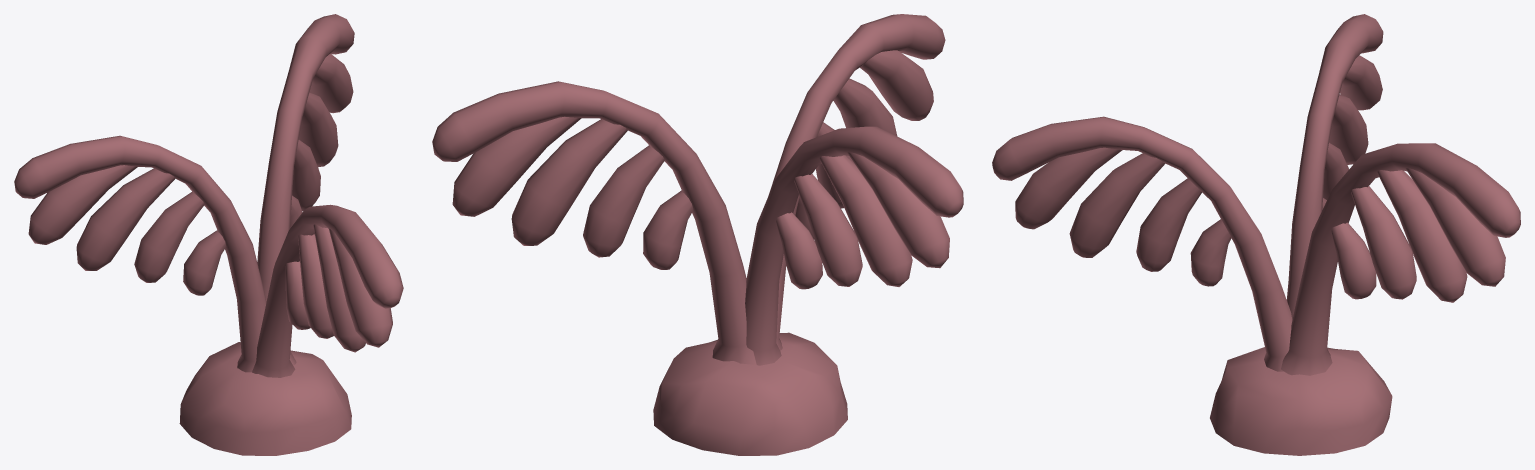
Rendered from rockyPlant_stage3.fbx.
3 views of the same model, side by side, from view 1: azimuth 30°, elevation 25°; view 2: azimuth 150°, elevation 25°; view 3: azimuth 270°, elevation 25° (orthographic). The views are drawn at different scales.
Visible parts, largest first — view 1: rockyStem1 (×3), rockyFruit, rockyLeaf3 (×3), rockyLeaf2 (×3), rockyLeaf1 (×3), rockyLeaf4 (×2); view 2: rockyStem1 (×3), rockyFruit, rockyLeaf3 (×3), rockyLeaf2 (×3), rockyLeaf1 (×3), rockyLeaf4 (×2); view 3: rockyStem1 (×3), rockyFruit, rockyLeaf3 (×3), rockyLeaf2 (×3), rockyLeaf1 (×3), rockyLeaf4 (×2).
Boxes of the visible parts, box(x1,y1,x2,y2) form: rockyStem1 (×3): box(14, 14, 403, 377); rockyFruit: box(179, 342, 351, 455); rockyLeaf3 (×3): box(76, 92, 365, 352); rockyLeaf2 (×3): box(28, 53, 392, 347); rockyLeaf1 (×3): box(134, 140, 333, 338); rockyLeaf4 (×2): box(183, 230, 310, 329); rockyStem1 (×3): box(432, 14, 963, 365); rockyFruit: box(653, 332, 847, 455); rockyLeaf3 (×3): box(511, 78, 912, 286); rockyLeaf2 (×3): box(452, 50, 949, 268); rockyLeaf1 (×3): box(583, 122, 862, 286); rockyLeaf4 (×2): box(643, 190, 822, 289); rockyStem1 (×3): box(992, 14, 1520, 375); rockyFruit: box(1210, 347, 1392, 455); rockyLeaf3 (×3): box(1069, 94, 1467, 302); rockyLeaf2 (×3): box(1015, 55, 1505, 286); rockyLeaf1 (×3): box(1136, 142, 1416, 299); rockyLeaf4 (×2): box(1190, 219, 1376, 299).
Bounding box in the file's own units: 77.08 × 57.6 × 83.91.
